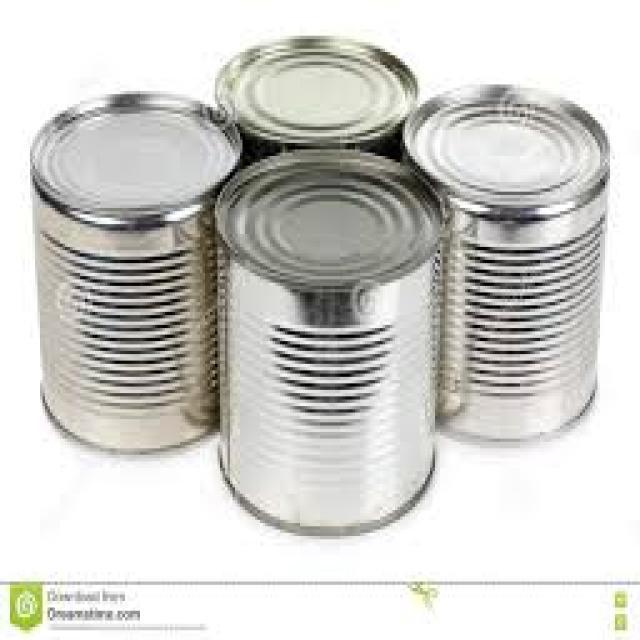recyclable: (216, 146, 442, 538), (398, 81, 612, 448), (29, 90, 242, 458), (213, 34, 420, 164)
